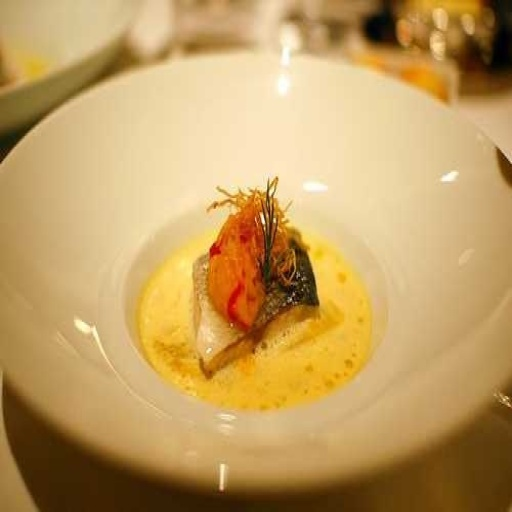piring: (2, 51, 512, 482)
